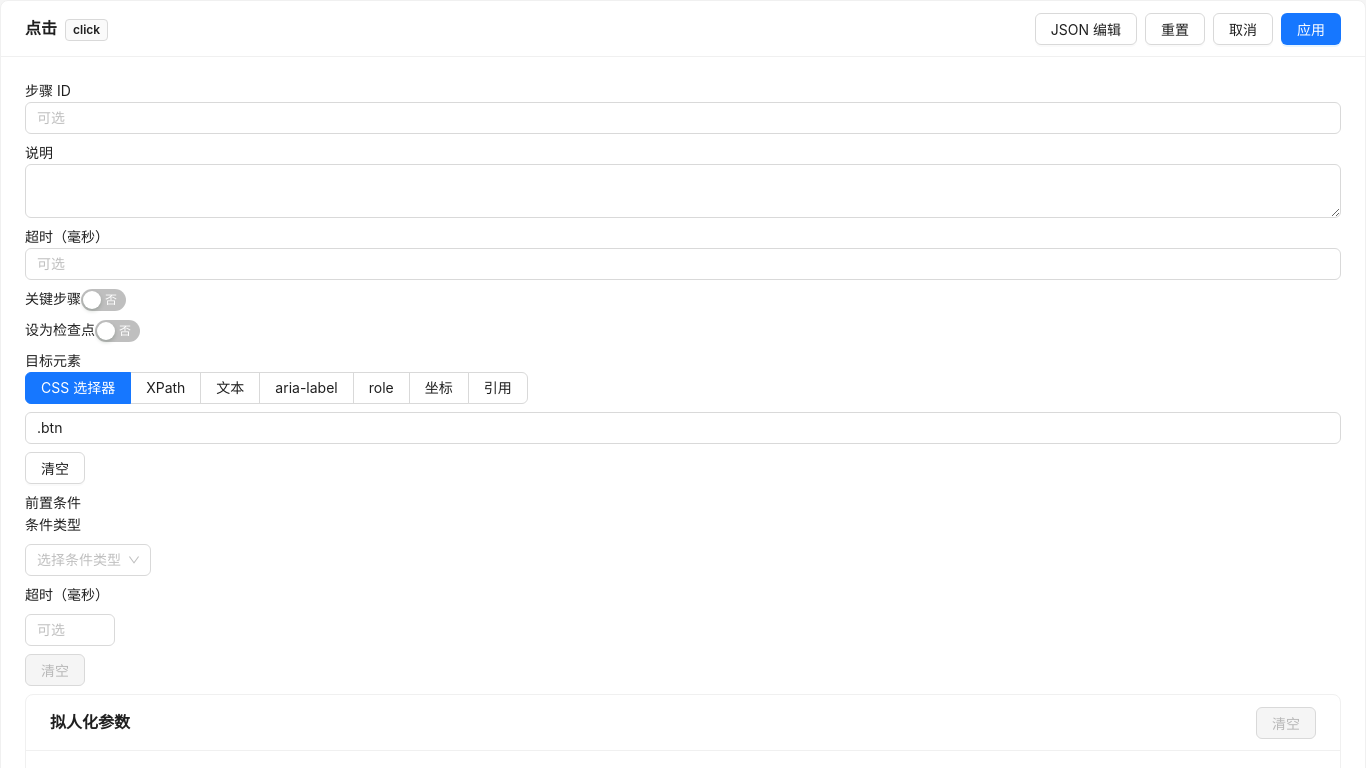
Test: ActionEditorPanel › resets to initial action when reset is clicked
Replace the text in the field showing ".btn" with ".new": [683, 428] box [25,412,1341,444]
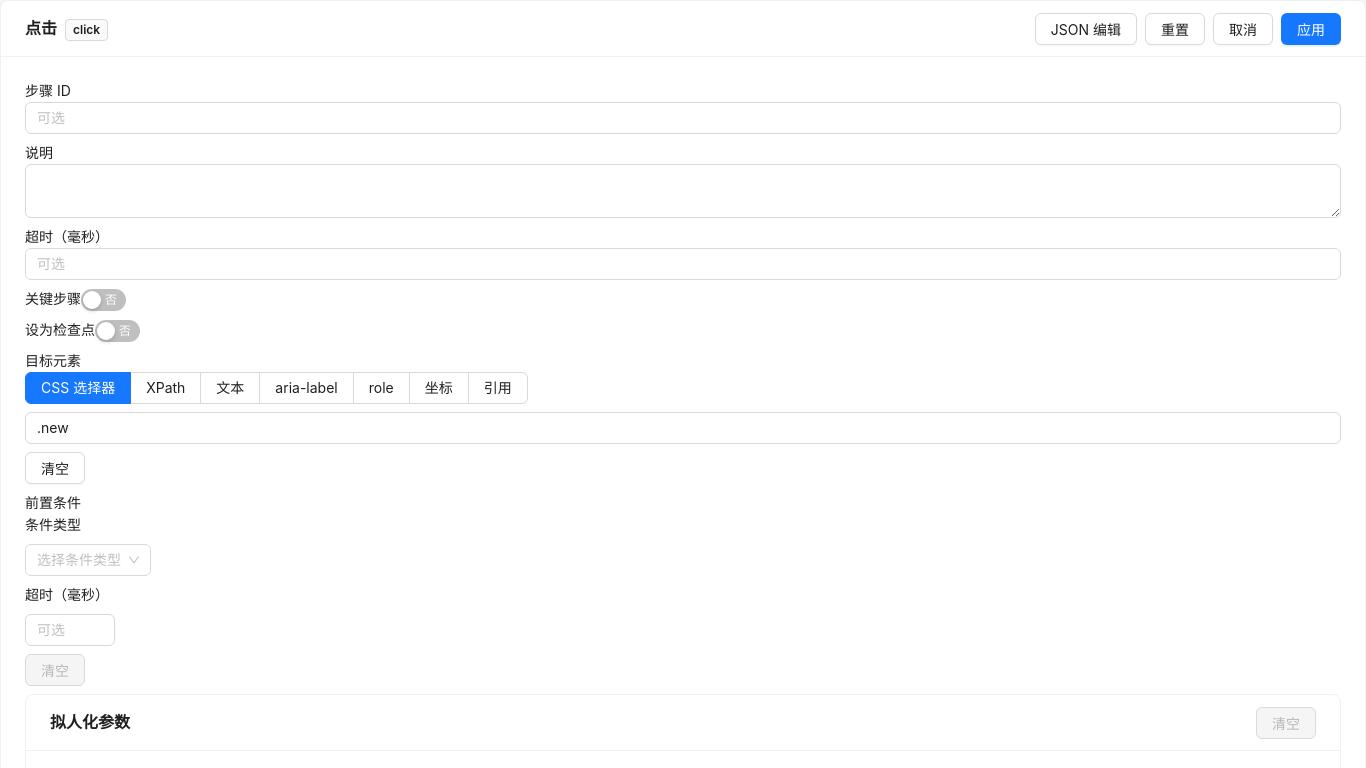
Click the button "重置": [1175, 28] box [1145,12,1205,44]
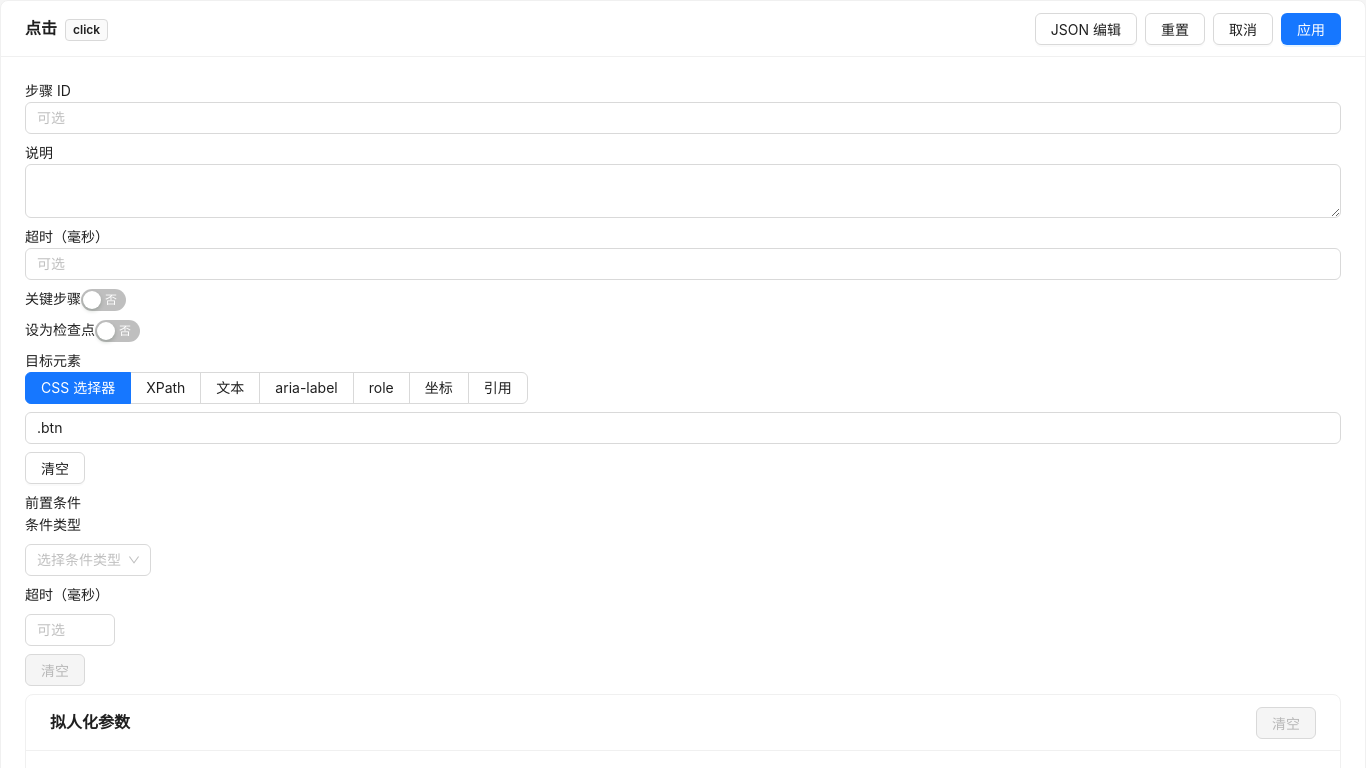
Check: the field showing ".new" is not shown
Check: the field showing ".btn" is shown, box [25,412,1341,444]
